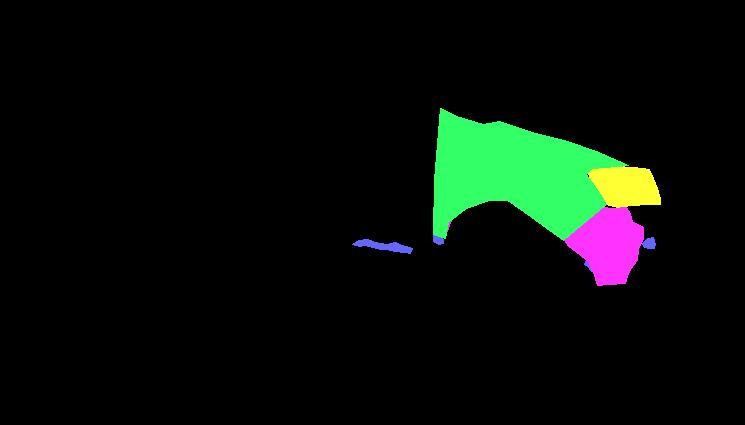Broken part: (433, 108, 628, 240)
Cracked: (588, 166, 660, 207)
Dent: (509, 151, 601, 239), (564, 207, 643, 285), (433, 136, 492, 236)
Scratch: (352, 239, 412, 253), (550, 158, 577, 184), (561, 194, 584, 217), (578, 226, 596, 253), (592, 211, 614, 228), (583, 186, 596, 208), (585, 207, 605, 221), (642, 237, 655, 248), (584, 259, 595, 271), (537, 191, 556, 197), (433, 235, 443, 244), (612, 247, 621, 253)
